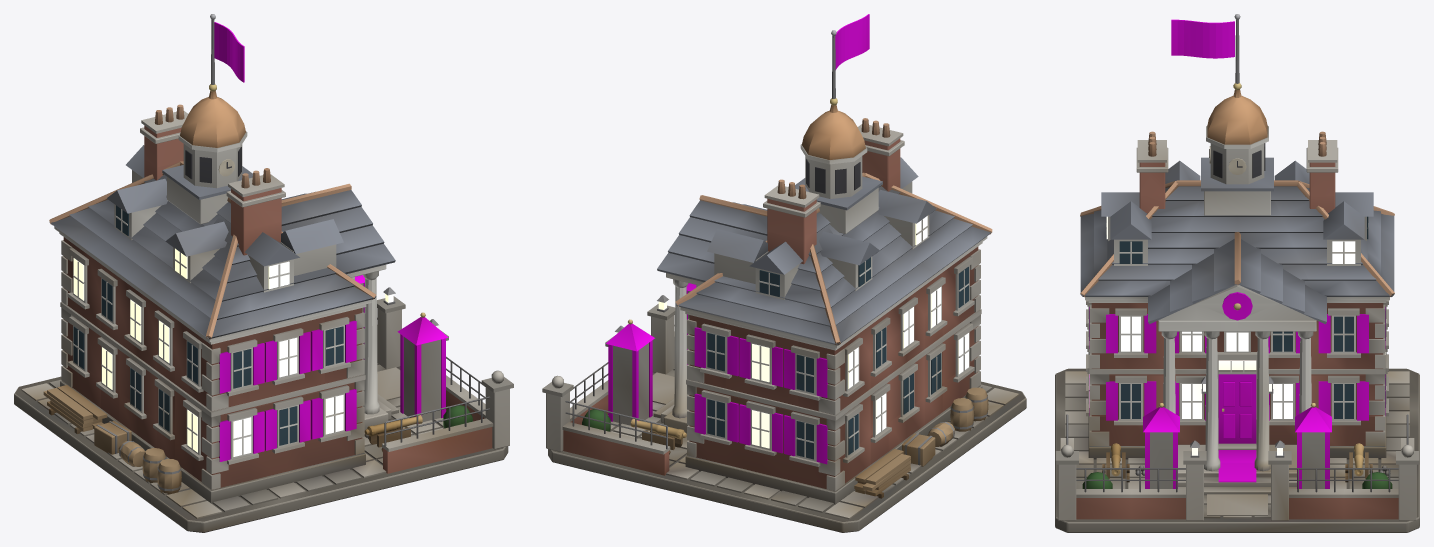
The model's file is command_center_gunpowder.glb.
The picture shows the model from 3 angles, left to right: view 1: azimuth 30°, elevation 25°; view 2: azimuth 150°, elevation 25°; view 3: azimuth 270°, elevation 25°; orthographic projection. The views are drawn at different scales.
Parts seen in each view (by area): view 1: Body; view 2: Body; view 3: Body.
Part boxes in pixels (x1,y1,x2,y2): Body: (14,14,513,532); Body: (542,14,1026,532); Body: (1055,14,1419,532).
Size of the model in its own units: 6 by 7.61 by 6.
Materials: 1 (1 with a texture image).
